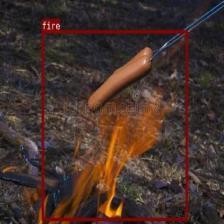fire: (41, 30, 187, 220)
